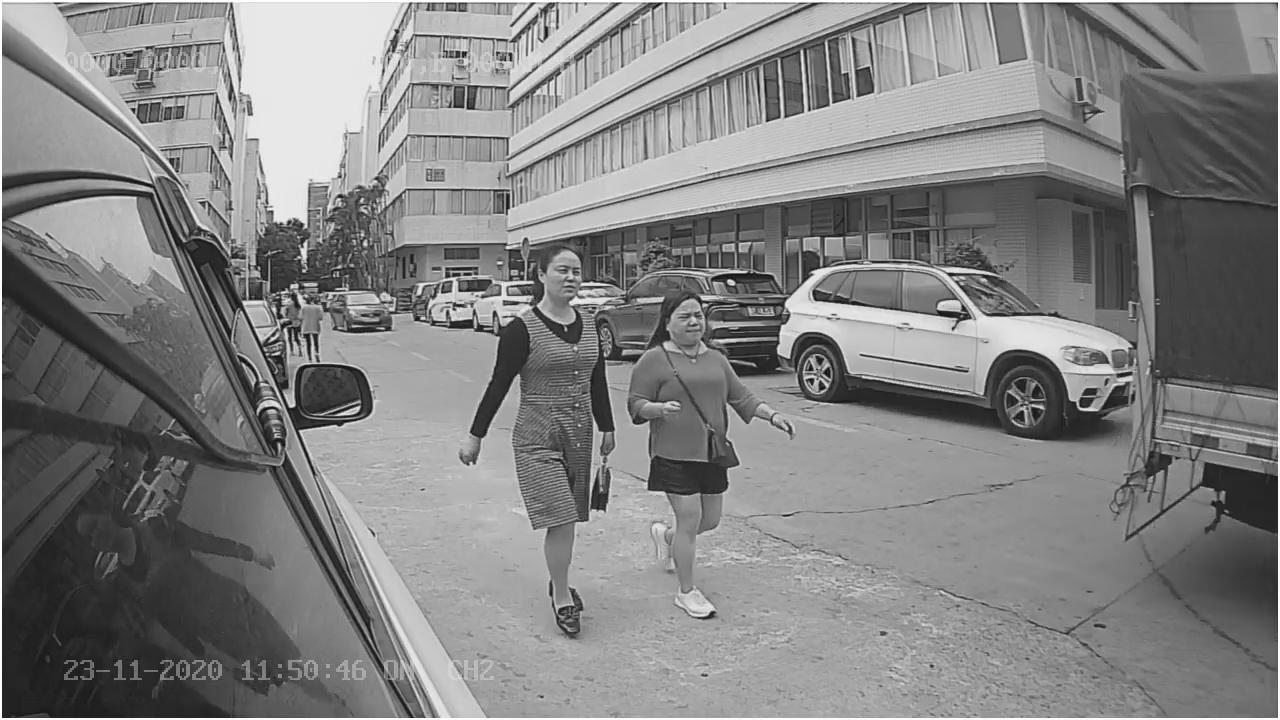person: (462, 232, 613, 635), (629, 288, 793, 620)
